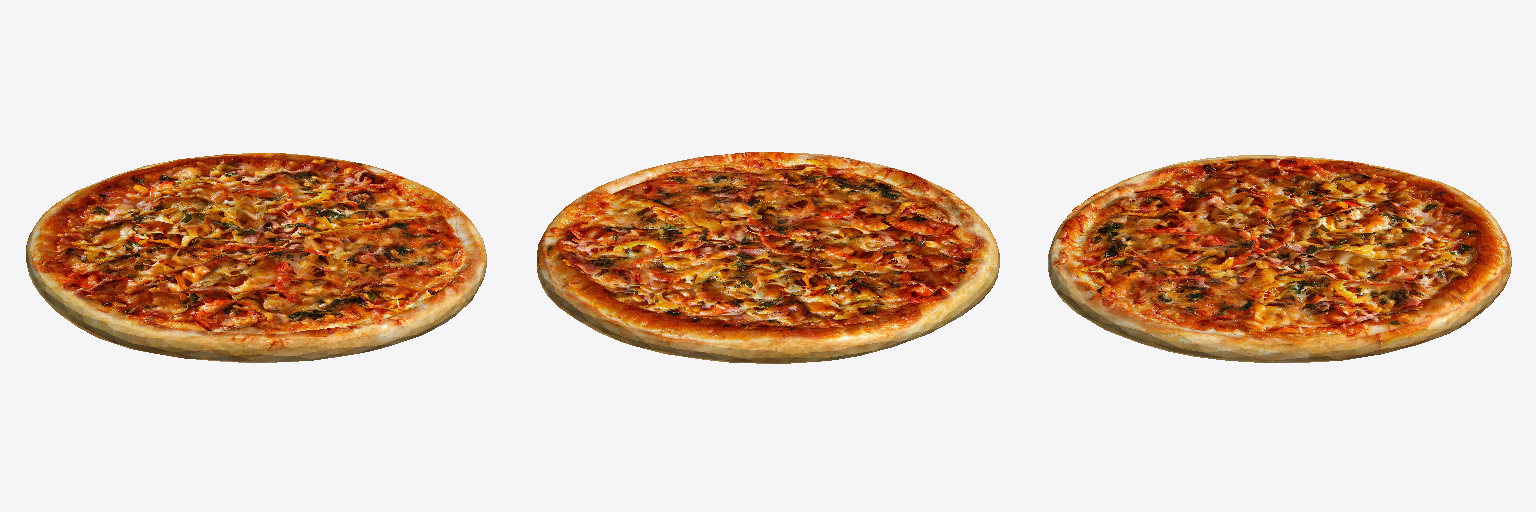
3 views of the same model, side by side, from view 1: azimuth 30°, elevation 25°; view 2: azimuth 150°, elevation 25°; view 3: azimuth 270°, elevation 25° (orthographic).
Visible parts, largest first — view 1: Cylinder001.000_Cylinder001.000_Material.002; view 2: Cylinder001.000_Cylinder001.000_Material.002; view 3: Cylinder001.000_Cylinder001.000_Material.002.
Part boxes in pixels (left/top/right/bottom): Cylinder001.000_Cylinder001.000_Material.002: left=26, top=153, right=486, bottom=362; Cylinder001.000_Cylinder001.000_Material.002: left=537, top=152, right=999, bottom=363; Cylinder001.000_Cylinder001.000_Material.002: left=1048, top=155, right=1511, bottom=362.
Bounding box in the file's own units: 15.33 × 1.22 × 15.54.
Materials: 1 (1 with a texture image).